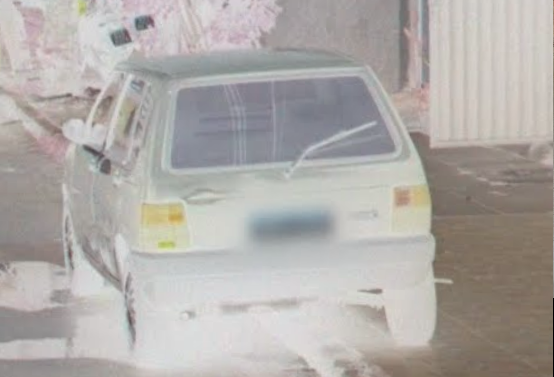car: (55, 49, 452, 362)
